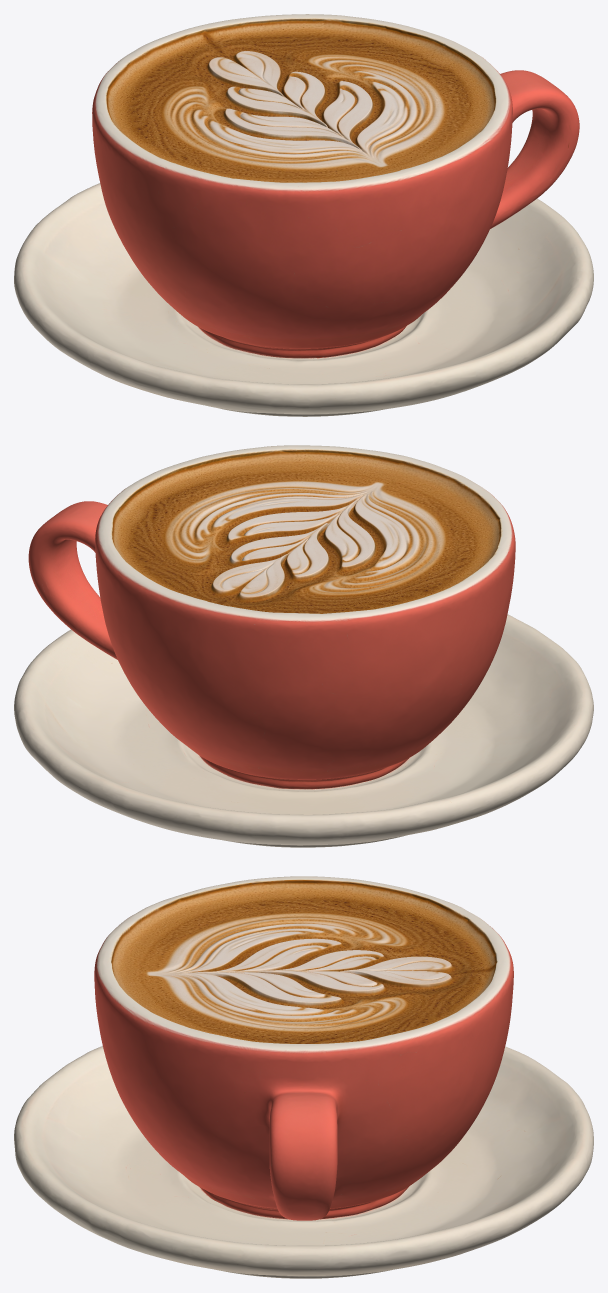
Rendered from coffee-cup-original.glb.
3 renders of one model, top to bottom at view 1: azimuth 30°, elevation 25°; view 2: azimuth 150°, elevation 25°; view 3: azimuth 270°, elevation 25°, orthographic.
Size of the model in its own units: 1.9 by 0.8557 by 1.86.
Materials: 1 (1 with a texture image).
